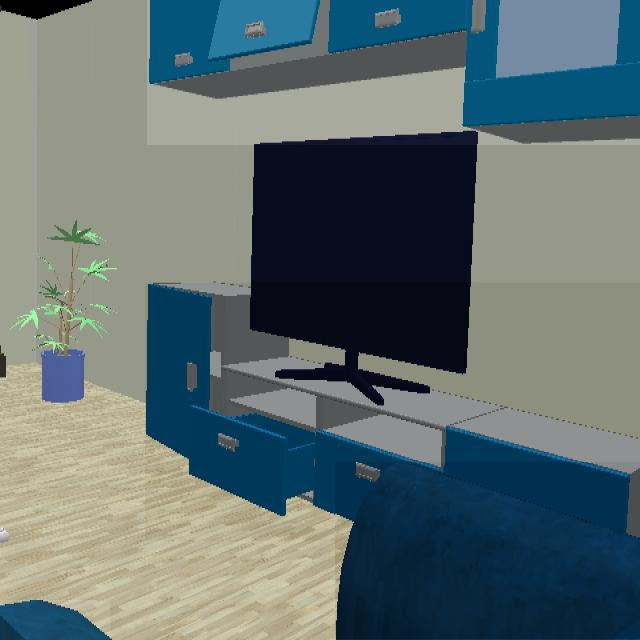cabinet: (145, 283, 640, 541), (147, 0, 640, 145)
monitor: (250, 132, 478, 405)
sofa: (335, 463, 640, 639), (0, 600, 110, 640)
